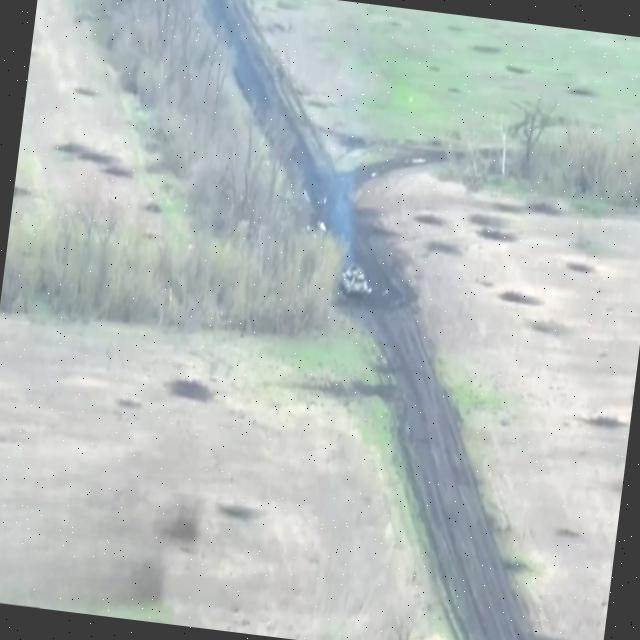MBT: (337, 258, 374, 303)
